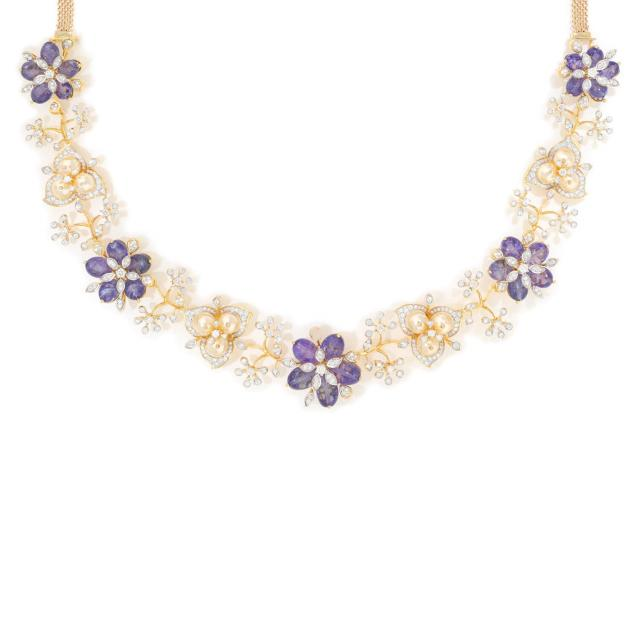missing gem: (310, 328, 321, 342)
